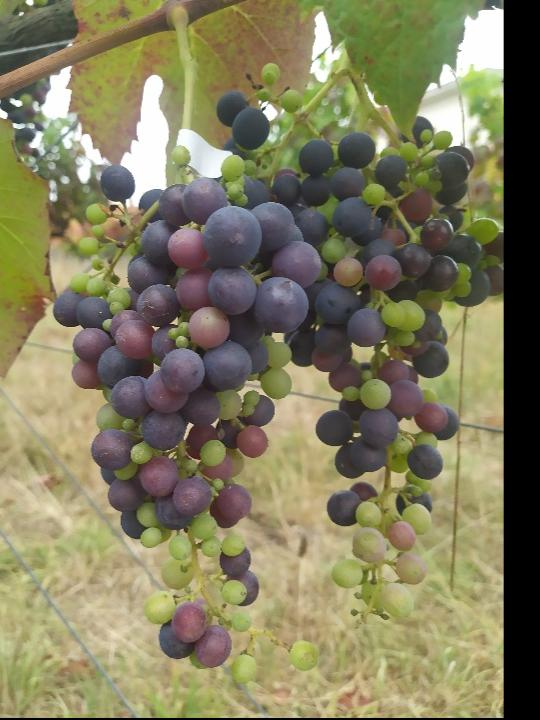grape: (214, 63, 504, 632), (48, 147, 322, 689)
